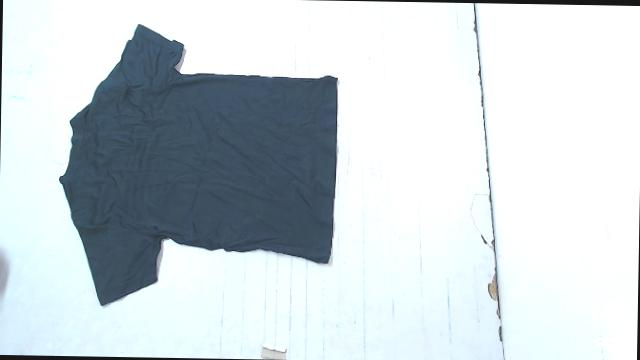new-garment: (60, 24, 337, 304)
